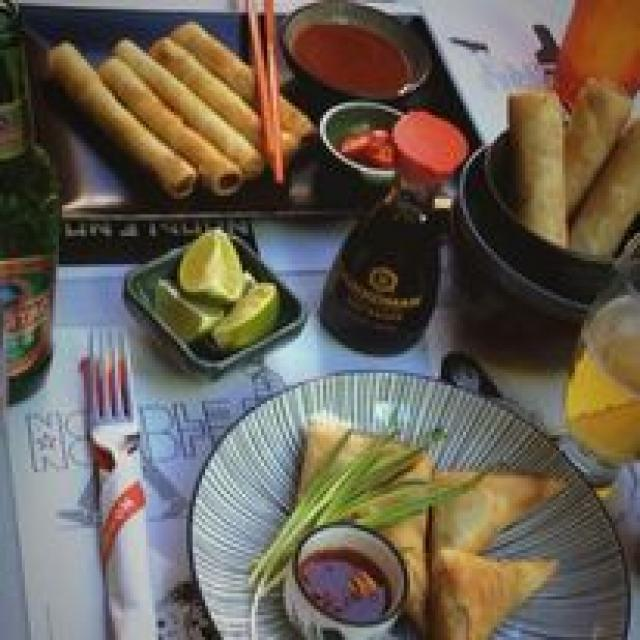Samosa: (279, 410, 572, 637)
Spring Rolls: (37, 15, 320, 202), (497, 68, 637, 255)
